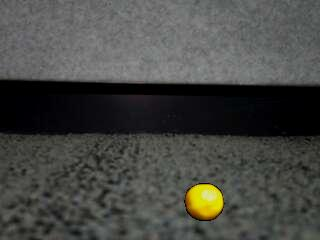Lemon: (184, 180, 224, 222)
